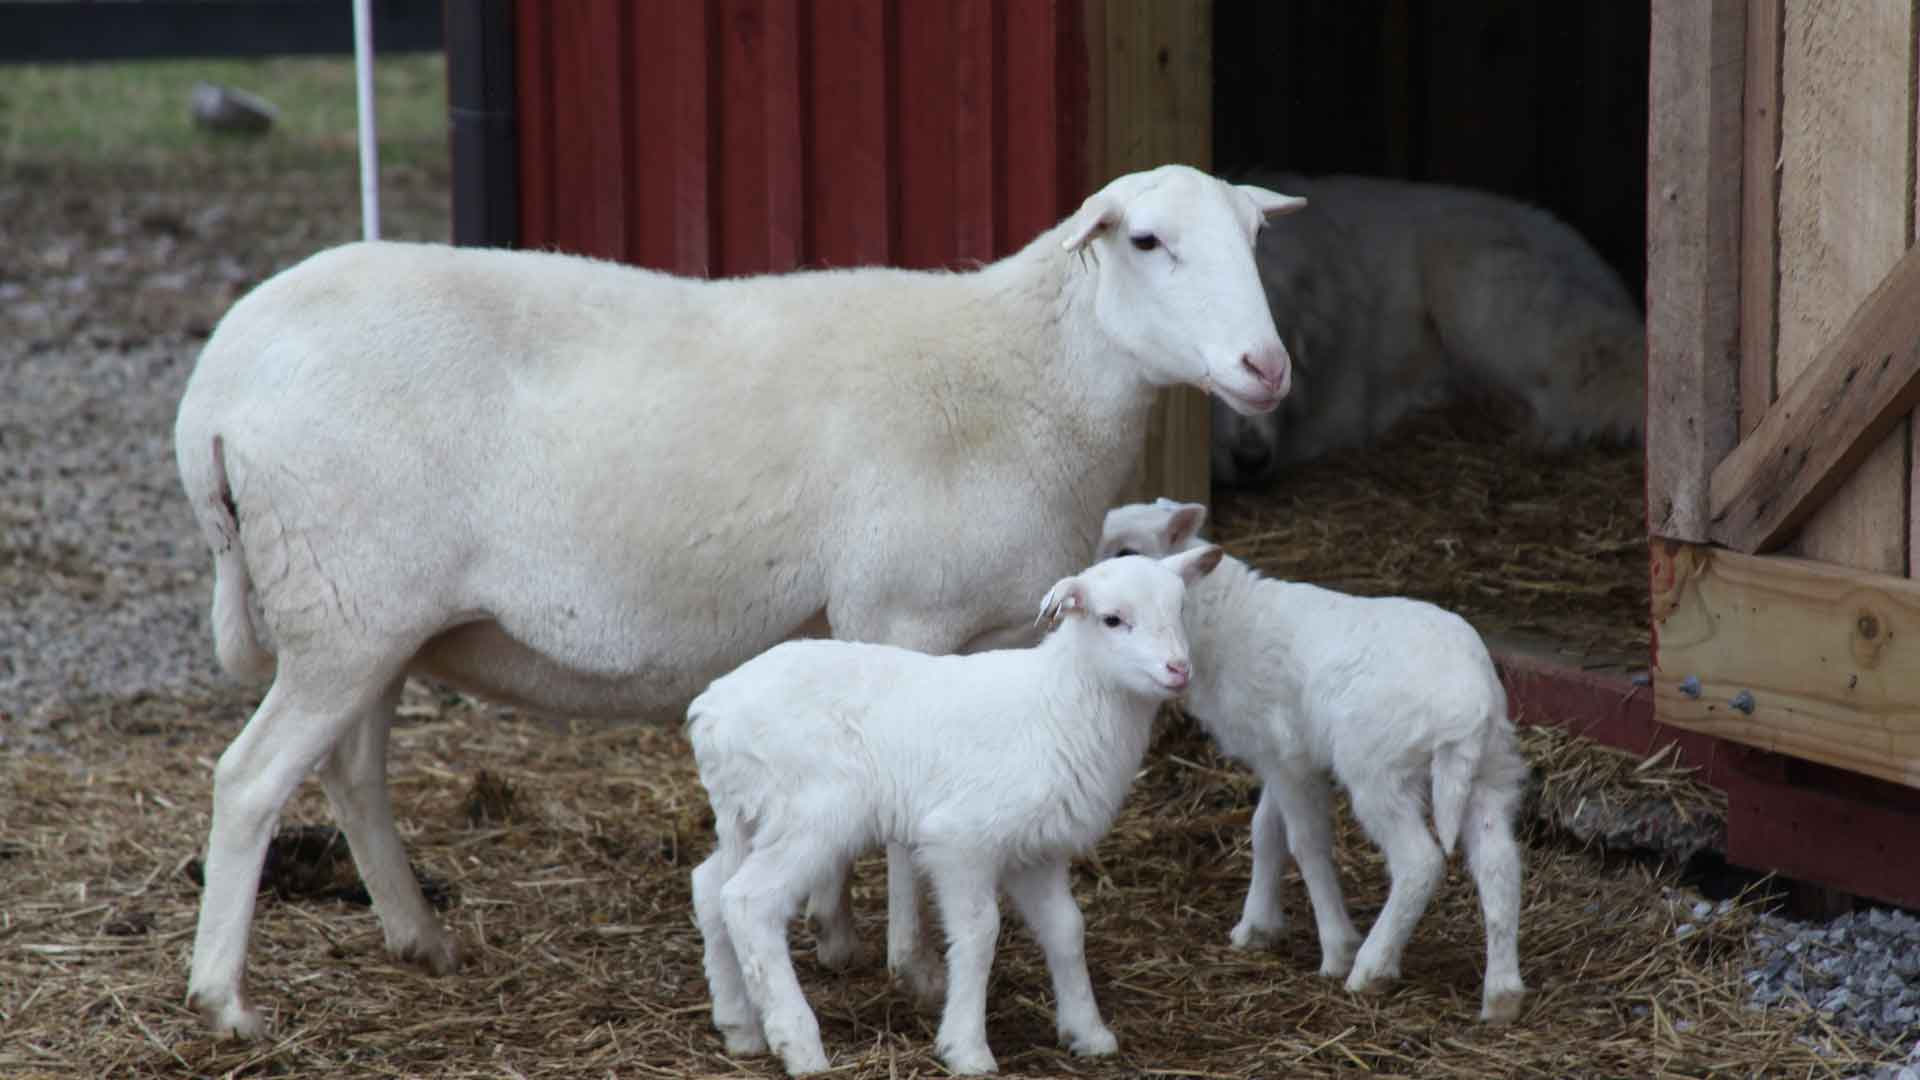sheep: (113, 120, 1305, 1021), (649, 555, 1189, 1080), (1105, 471, 1530, 1021)
